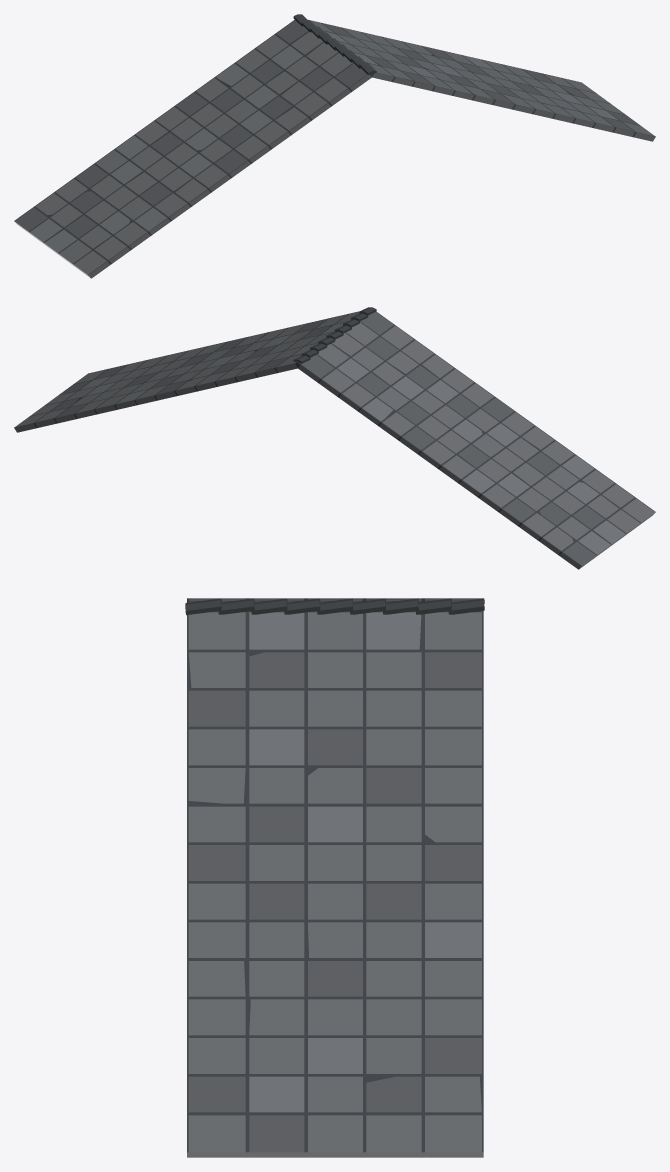
Rendered from Roof5_C8_01.fbx.
3 renders of one model, top to bottom at view 1: azimuth 30°, elevation 25°; view 2: azimuth 150°, elevation 25°; view 3: azimuth 270°, elevation 25°, orthographic. The views are drawn at different scales.
Parts seen in each view (by area): view 1: Roof5_C8_01; view 2: Roof5_C8_01; view 3: Roof5_C8_01.
Part boxes in pixels (box(x1,y1,x2,y2)): Roof5_C8_01: box(14, 14, 655, 278); Roof5_C8_01: box(14, 307, 655, 569); Roof5_C8_01: box(185, 598, 484, 1157).
Bounding box in the file's own units: 1105 × 264 × 252.
